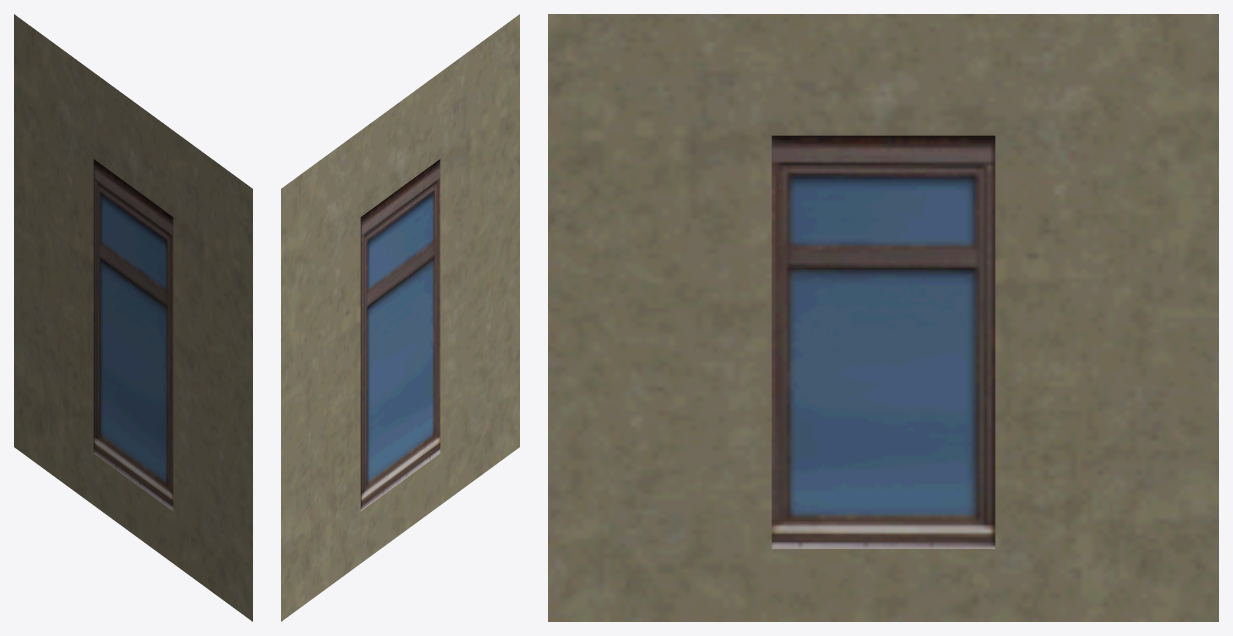
Rendered from Urban_StucoWallWindow2_Model.fbx.
3 renders of one model, left to right at view 1: azimuth 30°, elevation 25°; view 2: azimuth 150°, elevation 25°; view 3: azimuth 270°, elevation 25°, orthographic. The views are drawn at different scales.
Parts seen in each view (by area): view 1: Urban_StucoWallWindow2_Mesh; view 2: Urban_StucoWallWindow2_Mesh; view 3: Urban_StucoWallWindow2_Mesh.
Part boxes in pixels (left/top/right/bottom): Urban_StucoWallWindow2_Mesh: left=14, top=14, right=252, bottom=621; Urban_StucoWallWindow2_Mesh: left=281, top=14, right=519, bottom=621; Urban_StucoWallWindow2_Mesh: left=548, top=14, right=1218, bottom=621.
Bounding box in the file's own units: 0 × 2.1 × 2.1.
